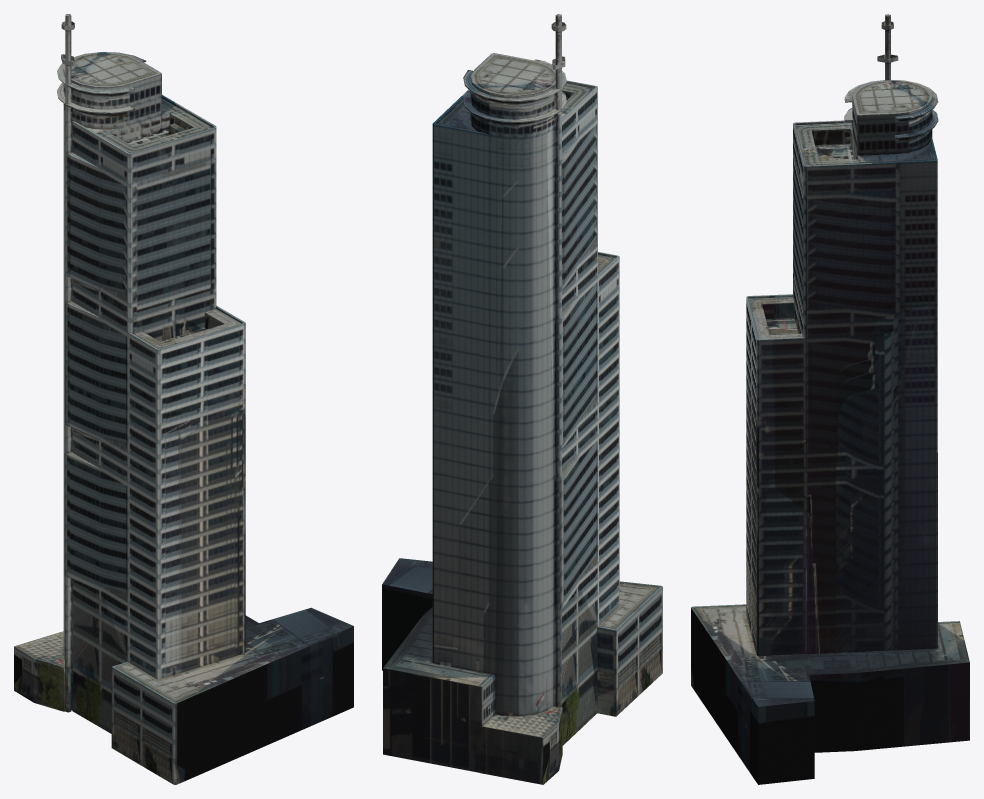
The picture shows the model from 3 angles, left to right: view 1: azimuth 30°, elevation 25°; view 2: azimuth 150°, elevation 25°; view 3: azimuth 270°, elevation 25°; orthographic projection. The views are drawn at different scales.
Parts seen in each view (by area): view 1: 19_0.glb; view 2: 19_0.glb; view 3: 19_0.glb.
Part boxes in pixels (<box>): 19_0.glb: <box>14,14,353,784</box>; 19_0.glb: <box>382,14,662,784</box>; 19_0.glb: <box>691,14,969,784</box>.
Size of the model in its own units: 63.2 by 177 by 66.91.
Materials: 3 (2 with a texture image).
